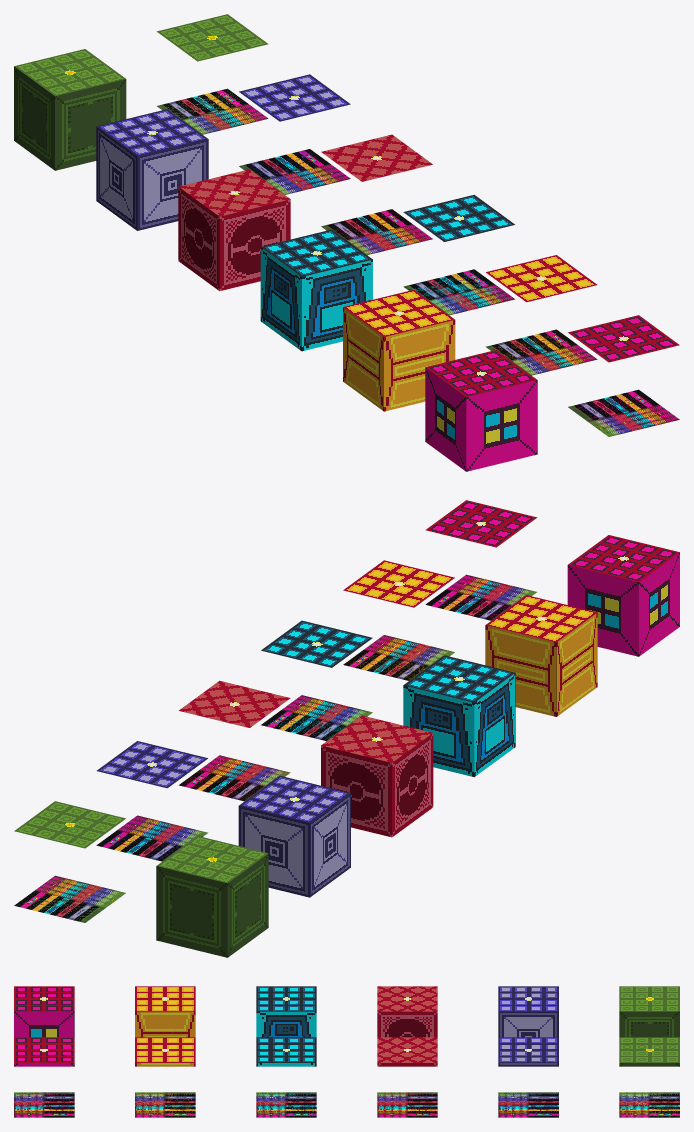
The model's file is LevelTiles.glb.
3 views of the same model, one above another, from view 1: azimuth 30°, elevation 25°; view 2: azimuth 150°, elevation 25°; view 3: azimuth 270°, elevation 25° (orthographic). The views are drawn at different scales.
Visible parts, largest first — view 1: Level6Wall.col, Level3Wall.col, Level2Wall.col, Level4Wall.col, Level5Wall.col, Level1Wall.col, Level6Floor.col, Level3Floor.col, Level1Floor.col, Level2Floor.col, Level5Floor.col, Level4Floor.col; view 2: Level1Wall.col, Level4Wall.col, Level5Wall.col, Level2Wall.col, Level3Wall.col, Level6Wall.col, Level1Floor.col, Level4Floor.col, Level6Floor.col, Level2Floor.col, Level5Floor.col, Level3Floor.col; view 3: Level2Wall.col, Level3Wall.col, Level1Wall.col, Level4Wall.col, Level5Wall.col, Level6Wall.col, Level2Floor.col, Level3Floor.col, Level1Floor.col, Level4Floor.col, Level5Floor.col, Level6Floor.col.
Part boxes in pixels (x1,y1,x2,y2): Level6Wall.col: (425, 350, 537, 471); Level3Wall.col: (178, 169, 290, 291); Level2Wall.col: (96, 109, 208, 230); Level4Wall.col: (260, 229, 372, 351); Level5Wall.col: (343, 290, 455, 411); Level1Wall.col: (14, 49, 126, 170); Level6Floor.col: (568, 315, 679, 436); Level3Floor.col: (321, 134, 432, 255); Level1Floor.col: (156, 14, 268, 134); Level2Floor.col: (239, 74, 350, 194); Level5Floor.col: (485, 255, 597, 375); Level4Floor.col: (403, 194, 514, 315); Level1Wall.col: (156, 836, 268, 957); Level4Wall.col: (403, 655, 515, 777); Level5Wall.col: (485, 595, 597, 716); Level2Wall.col: (238, 776, 350, 897); Level3Wall.col: (321, 715, 433, 837); Level6Wall.col: (567, 535, 679, 656); Level1Floor.col: (14, 801, 125, 922); Level4Floor.col: (261, 620, 372, 741); Level6Floor.col: (425, 500, 537, 620); Level2Floor.col: (96, 741, 208, 861); Level5Floor.col: (343, 560, 454, 680); Level3Floor.col: (179, 680, 290, 801); Level2Wall.col: (498, 986, 558, 1066); Level3Wall.col: (377, 986, 437, 1066); Level1Wall.col: (619, 986, 679, 1066); Level4Wall.col: (256, 986, 316, 1066); Level5Wall.col: (135, 986, 195, 1066); Level6Wall.col: (14, 986, 74, 1066); Level2Floor.col: (498, 1037, 558, 1117); Level3Floor.col: (377, 1037, 437, 1117); Level1Floor.col: (619, 1037, 679, 1117); Level4Floor.col: (256, 1037, 316, 1117); Level5Floor.col: (135, 1037, 195, 1117); Level6Floor.col: (14, 1037, 74, 1117).
Bounding box in the file's own units: 6 × 2 × 22.
12 materials, 12 textured.
